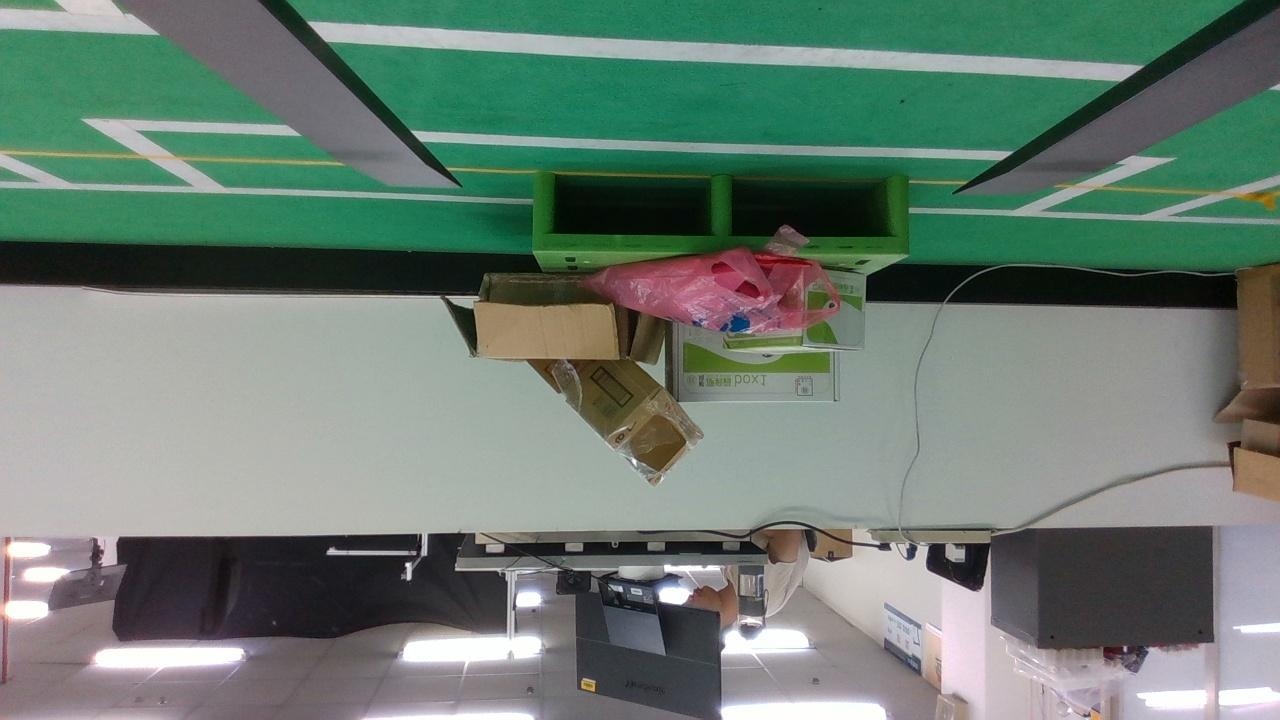Pallet: (534, 169, 910, 253)
